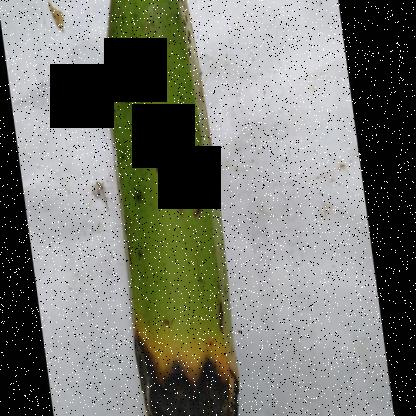rotten: (103, 298, 238, 416)
unripe: (108, 1, 230, 311)
